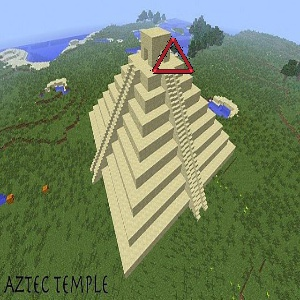triangle: (149, 34, 196, 76)
